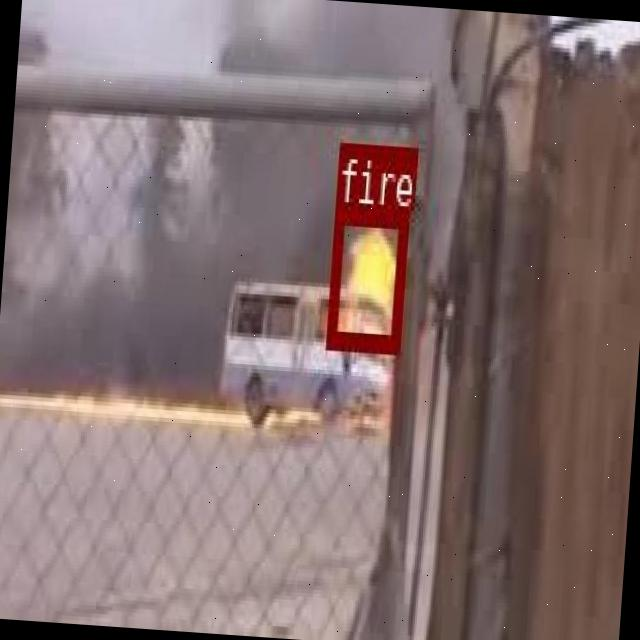fire: (325, 202, 407, 351)
